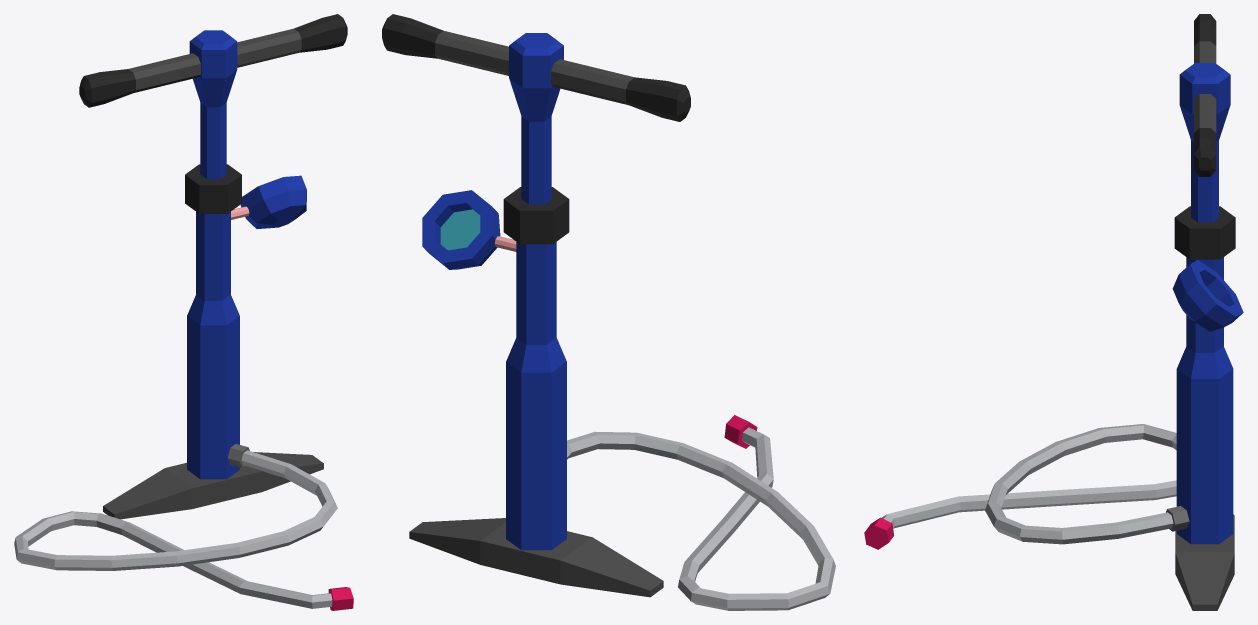
File: Pump.fbx
The picture shows the model from 3 angles, left to right: view 1: azimuth 30°, elevation 25°; view 2: azimuth 150°, elevation 25°; view 3: azimuth 270°, elevation 25°; orthographic projection. The views are drawn at different scales.
Parts seen in each view (by area): view 1: Pump; view 2: Pump; view 3: Pump.
Boxes of the visible parts, <box> form: Pump: <box>14,14,353,610</box>; Pump: <box>382,14,835,610</box>; Pump: <box>864,14,1243,610</box>.
Bounding box in the file's own units: 61.67 × 75.23 × 52.92.
